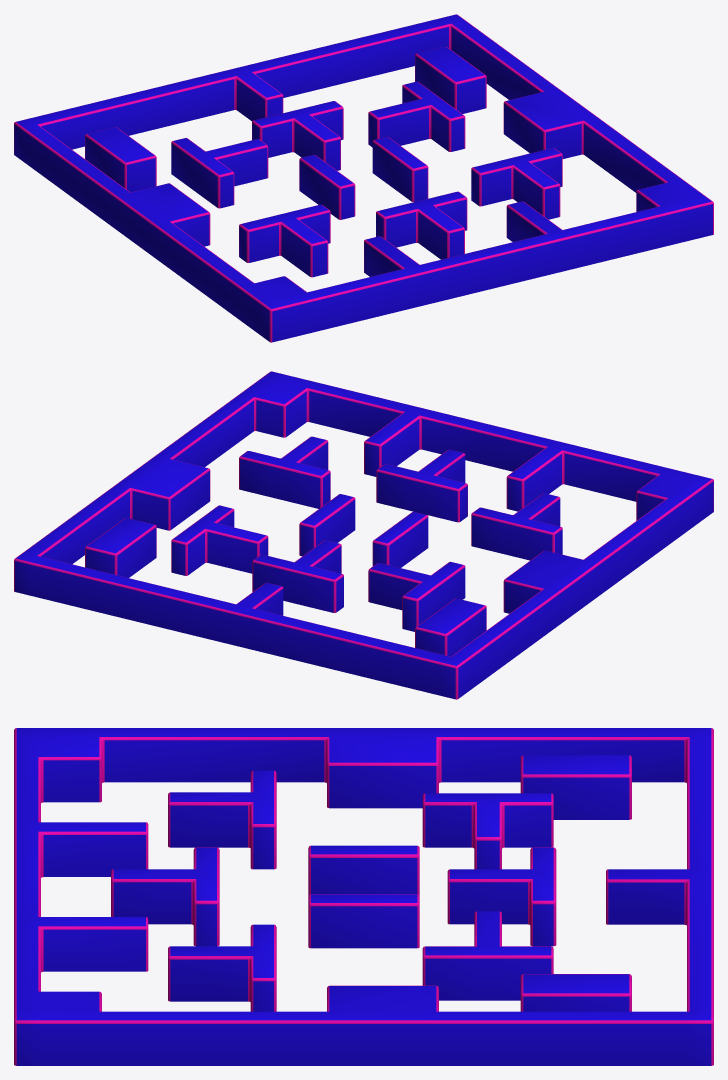
The model's file is Walls.fbx.
3 views of the same model, one above another, from view 1: azimuth 30°, elevation 25°; view 2: azimuth 150°, elevation 25°; view 3: azimuth 270°, elevation 25° (orthographic). The views are drawn at different scales.
Parts seen in each view (by area): view 1: Cube; view 2: Cube; view 3: Cube.
Part boxes in pixels (bbox=[...]): Cube: bbox=[14, 14, 713, 342]; Cube: bbox=[14, 371, 713, 699]; Cube: bbox=[14, 728, 713, 1065].
Size of the model in its own units: 5403 by 380 by 5428.
